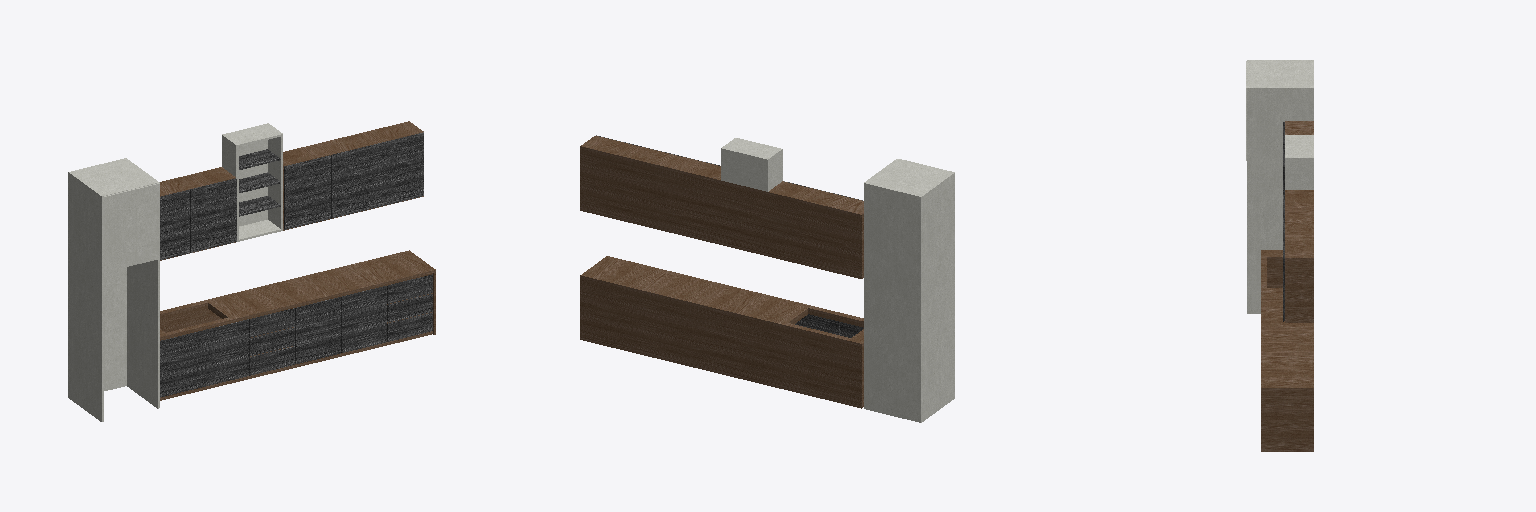
The picture shows the model from 3 angles: view 1: azimuth 30°, elevation 25°; view 2: azimuth 150°, elevation 25°; view 3: azimuth 270°, elevation 25°; orthographic projection.
Visible parts, largest first — view 1: Box260, Box233, Box262, Object069, Box250, Box258, Box255, Box257, Box259, Box244, Box245, Box246 (+8 smaller); view 2: Box233, Box260, Box250, Object069, Box244; view 3: Box260, Box233, Box250, Object069.
Part boxes in pixels (left/top/right/bottom): Box260: left=68, top=158, right=159, bottom=421; Box233: left=160, top=250, right=435, bottom=400; Box262: left=103, top=183, right=159, bottom=270; Object069: left=222, top=123, right=282, bottom=241; Box250: left=160, top=121, right=423, bottom=260; Box258: left=331, top=144, right=377, bottom=218; Box255: left=190, top=178, right=236, bottom=252; Box257: left=284, top=155, right=330, bottom=229; Box259: left=378, top=132, right=423, bottom=206; Box244: left=203, top=319, right=248, bottom=386; Box245: left=295, top=297, right=340, bottom=363; Box246: left=341, top=286, right=386, bottom=352; Box233: left=580, top=256, right=863, bottom=408; Box260: left=864, top=159, right=954, bottom=422; Box250: left=580, top=136, right=863, bottom=278; Object069: left=721, top=138, right=782, bottom=191; Box244: left=795, top=314, right=839, bottom=334; Box260: left=1247, top=60, right=1313, bottom=313; Box233: left=1261, top=250, right=1313, bottom=451; Box250: left=1285, top=121, right=1313, bottom=322; Object069: left=1285, top=135, right=1313, bottom=189.
Bounding box in the file's own units: 2.84 × 1.8 × 0.4941.
3 materials, 3 textured.